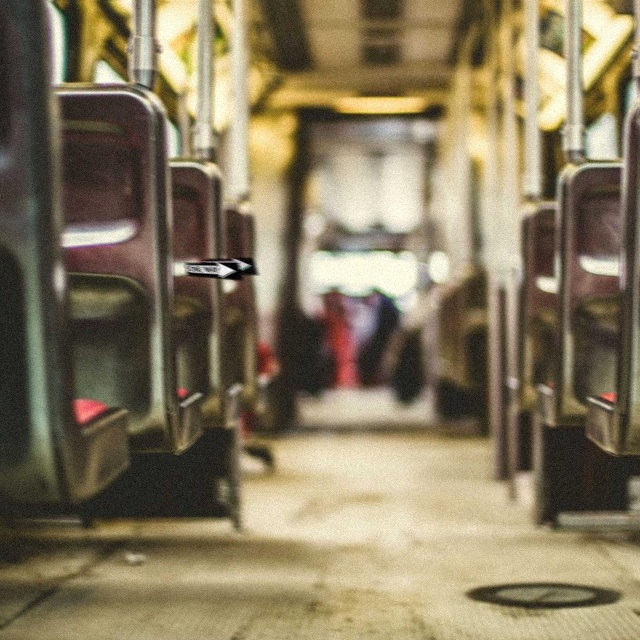ONE_WAY_ right: (200, 255, 258, 274), (184, 260, 242, 279)
